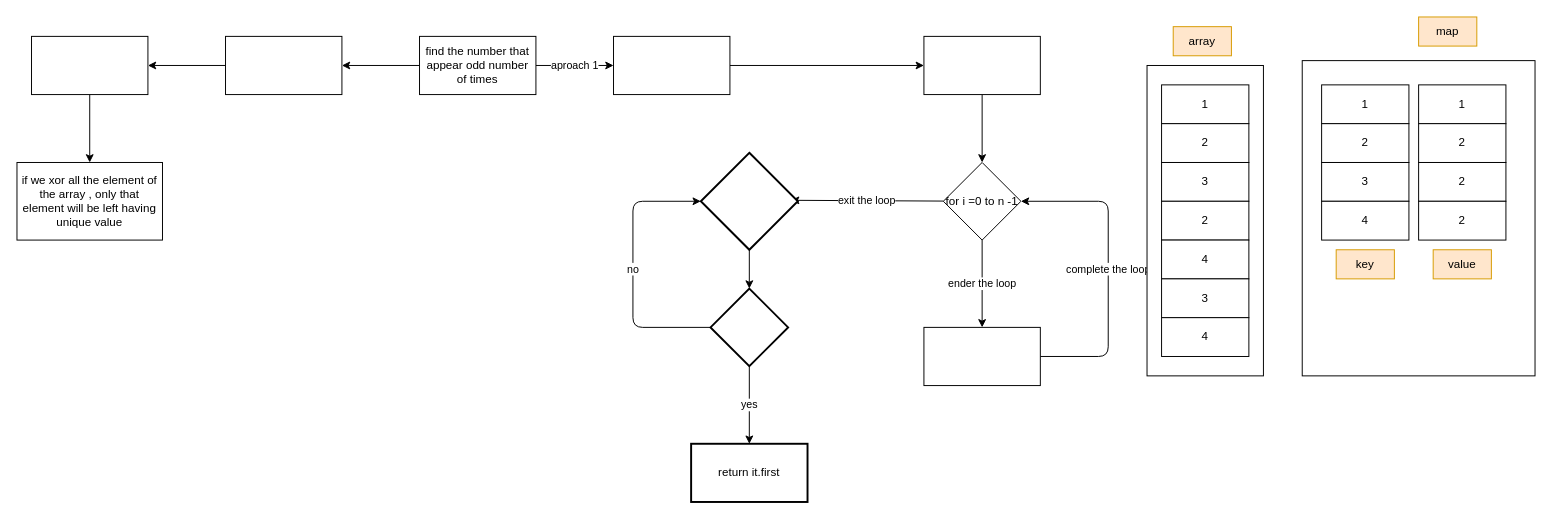
Image size: 1552x520. Some labels were removed from this diagram. Each missing label, with the box of its shape:
a ^ a = 0: (31, 35, 148, 95)
Bit Operation: (225, 35, 342, 95)
define the map: (923, 35, 1040, 95)
for auto it : map: (699, 151, 798, 250)
if it.second == 1: (709, 287, 789, 367)
Map data structure: (613, 35, 730, 95)
map[array[i]] ++;: (923, 326, 1040, 386)
